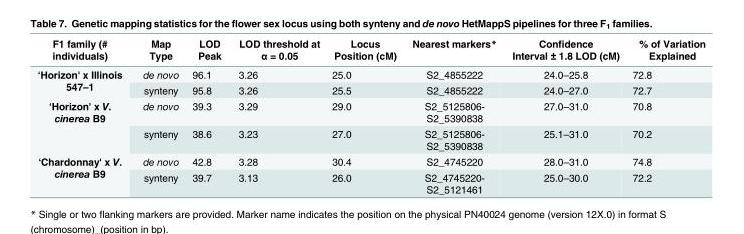table: (36, 37, 704, 194)
table column: (503, 37, 625, 194), (403, 37, 503, 194), (229, 37, 325, 194), (36, 37, 131, 194), (625, 37, 704, 194), (325, 37, 403, 194), (131, 37, 184, 194), (184, 37, 229, 194)
table column header: (36, 37, 704, 64)
table row: (36, 97, 704, 125), (36, 125, 704, 153), (36, 37, 704, 64), (36, 169, 704, 194), (36, 64, 704, 82), (36, 153, 704, 169), (36, 82, 704, 97)
table spanning cell: (36, 97, 131, 153), (36, 153, 131, 194), (36, 64, 131, 97)
